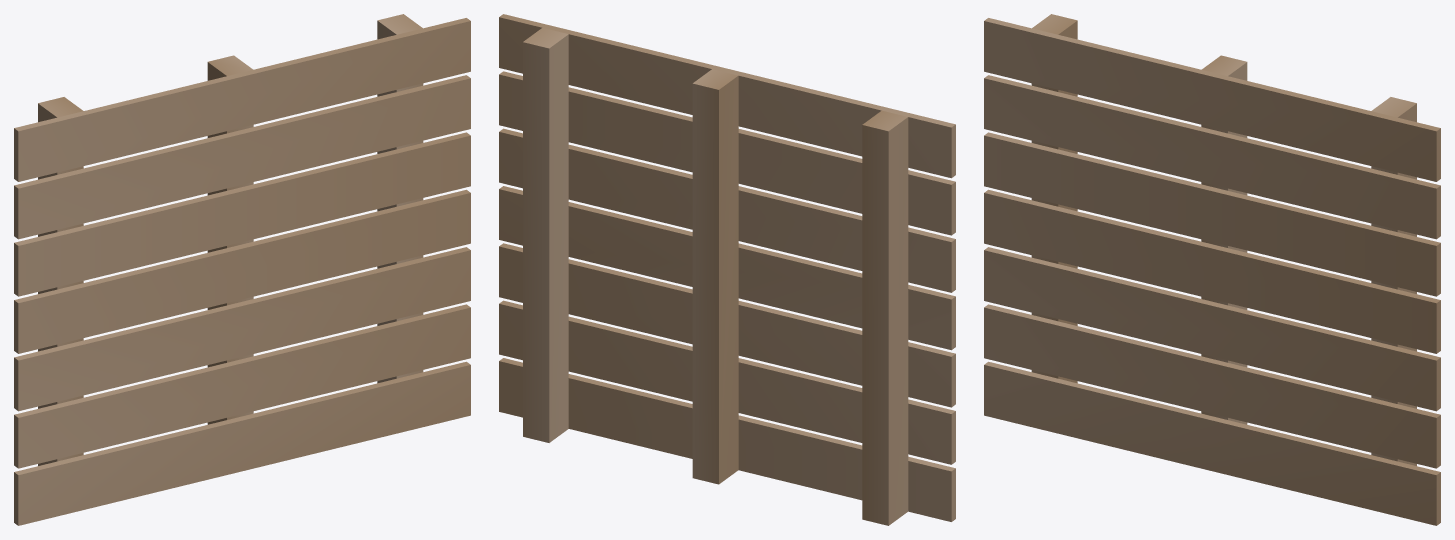
Rendered from palletcontirante.glb.
3 views of the same model, side by side, from view 1: azimuth 30°, elevation 25°; view 2: azimuth 150°, elevation 25°; view 3: azimuth 330°, elevation 25° (orthographic).
Visible parts, largest first — view 1: world; view 2: world; view 3: world.
Part boxes in pixels (x1=…): world: x1=14, y1=14, x2=470, y2=525; world: x1=499, y1=14, x2=955, y2=525; world: x1=984, y1=14, x2=1440, y2=525.
Bounding box in the file's own units: 1.2 × 1 × 0.11.
